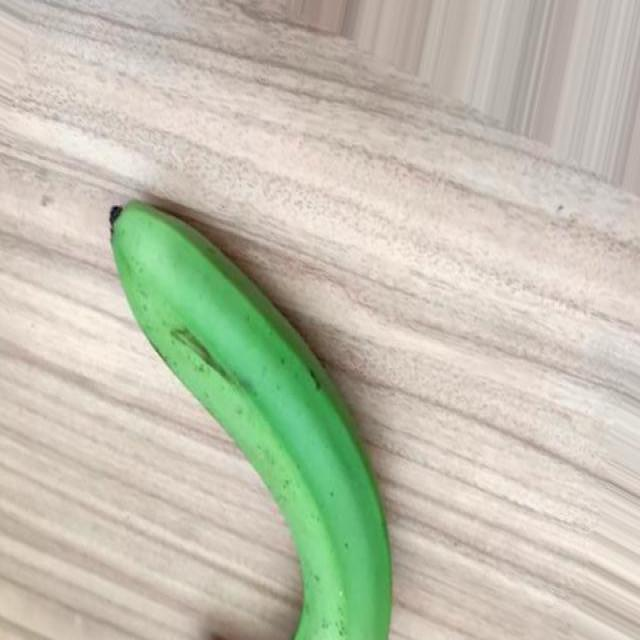Unripe: (109, 199, 393, 640)
